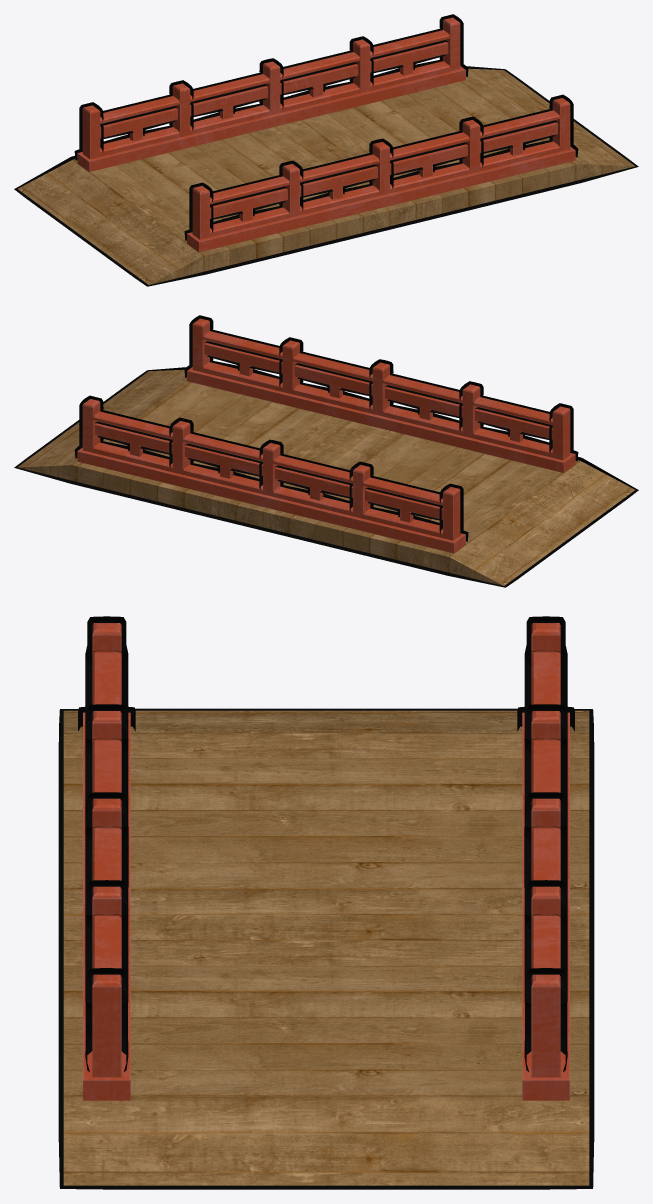
The model's file is Hashi.fbx.
The picture shows the model from 3 angles, top to bottom: view 1: azimuth 30°, elevation 25°; view 2: azimuth 150°, elevation 25°; view 3: azimuth 270°, elevation 25°; orthographic projection. The views are drawn at different scales.
Parts seen in each view (by area): view 1: Hashi; view 2: Hashi; view 3: Hashi.
Part boxes in pixels (box(x1,y1,x2,y2)): Hashi: box(14, 14, 638, 286); Hashi: box(14, 315, 638, 587); Hashi: box(58, 616, 594, 1189).
Size of the model in its own units: 492 by 75.85 by 232.
2 materials, 1 textured.
